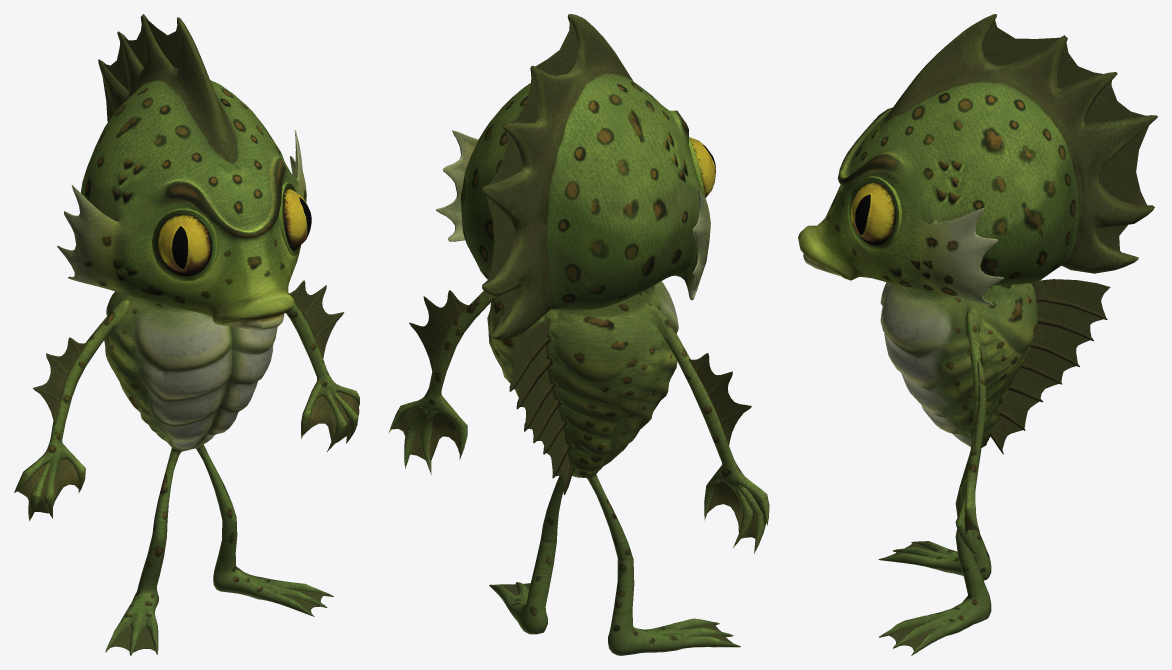
Rendered from monster.glb.
3 renders of one model, left to right at view 1: azimuth 30°, elevation 25°; view 2: azimuth 150°, elevation 25°; view 3: azimuth 270°, elevation 25°, orthographic. The views are drawn at different scales.
Parts seen in each view (by area): view 1: node_id35; view 2: node_id35; view 3: node_id35.
Part boxes in pixels (bbox=[...]): node_id35: bbox=[14, 14, 359, 655]; node_id35: bbox=[388, 14, 769, 655]; node_id35: bbox=[798, 14, 1157, 655].
Bounding box in the file's own units: 0.3192 × 0.512 × 0.2852.
1 material, 1 textured.
